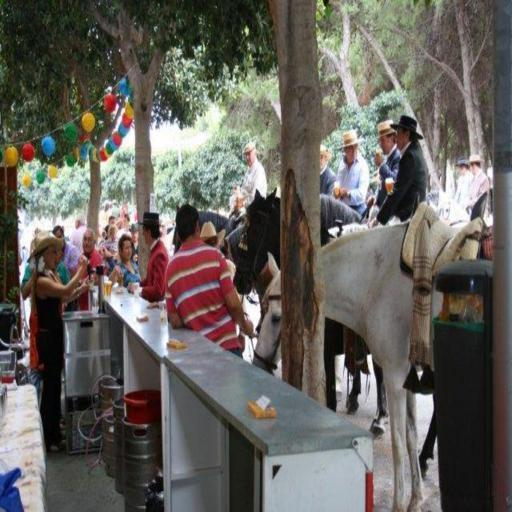horse: (247, 219, 494, 511), (228, 182, 361, 414), (170, 203, 241, 251)
